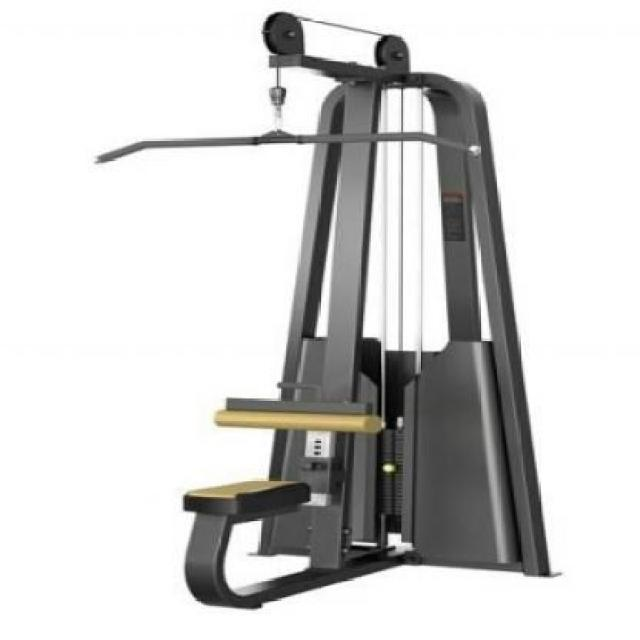Lat Pull Down: (75, 1, 588, 622)
